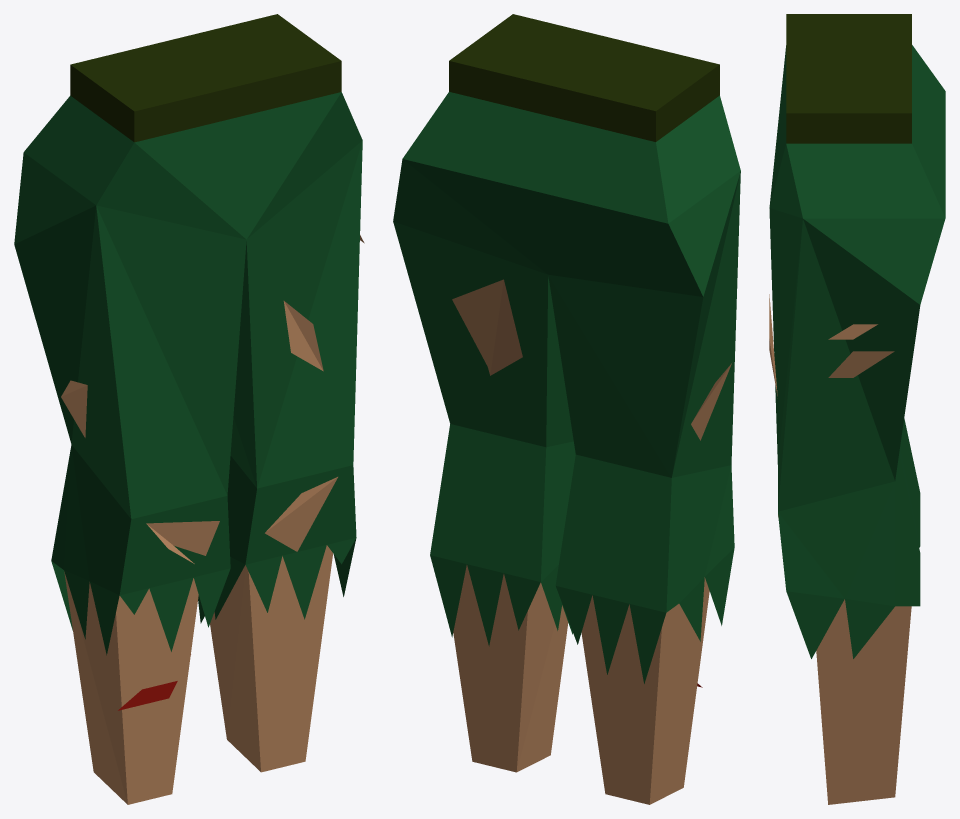
The model's file is model_438_idk.obj.
The picture shows the model from 3 angles, left to right: view 1: azimuth 30°, elevation 25°; view 2: azimuth 150°, elevation 25°; view 3: azimuth 270°, elevation 25°; orthographic projection.
Visible parts, largest first — view 1: 438; view 2: 438; view 3: 438.
Boxes of the visible parts, x1=… form: 438: x1=14, y1=14, x2=364, y2=804; 438: x1=393, y1=14, x2=740, y2=804; 438: x1=769, y1=14, x2=945, y2=804.
Bounding box in the file's own units: 42 × 92 × 21.
